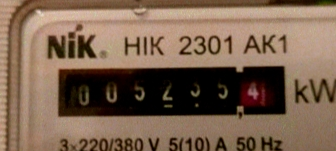0: (76, 81, 91, 106), (104, 79, 119, 103)
2: (159, 76, 175, 102)
3: (186, 73, 203, 98)
4: (244, 74, 262, 103)
5: (214, 72, 230, 100), (132, 76, 146, 102)
screen: (45, 53, 295, 127)
